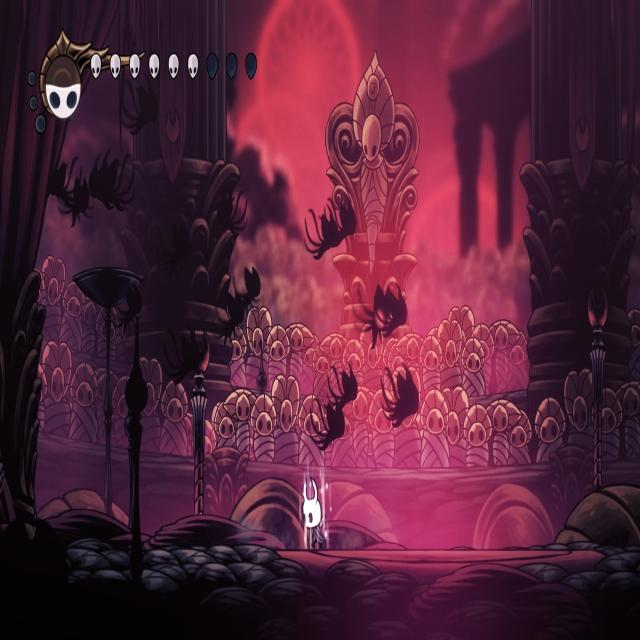Player: (300, 470, 328, 555)
Staggered_Grimm: (352, 278, 395, 351)
